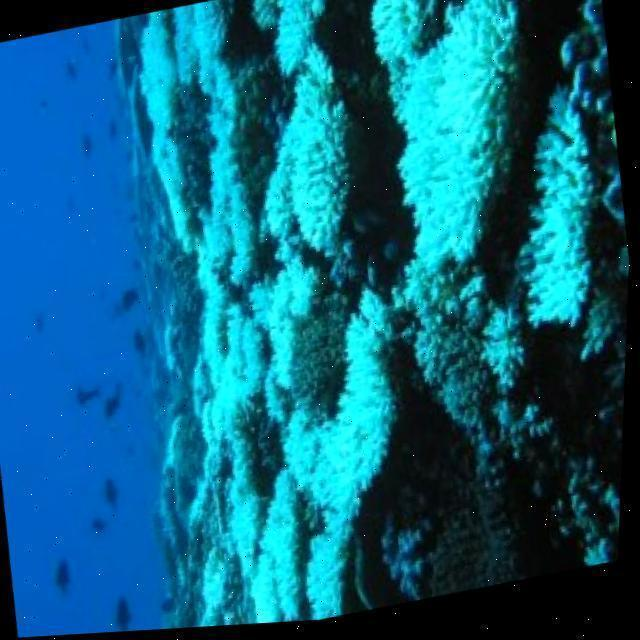Bleached Coral: (96, 0, 440, 635), (355, 0, 640, 445)
